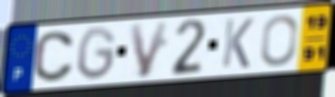2: (169, 18, 208, 78)
C: (32, 29, 76, 84)
G: (76, 25, 119, 83)
K: (220, 17, 256, 70)
O: (259, 13, 300, 69)
V: (127, 18, 171, 80)
